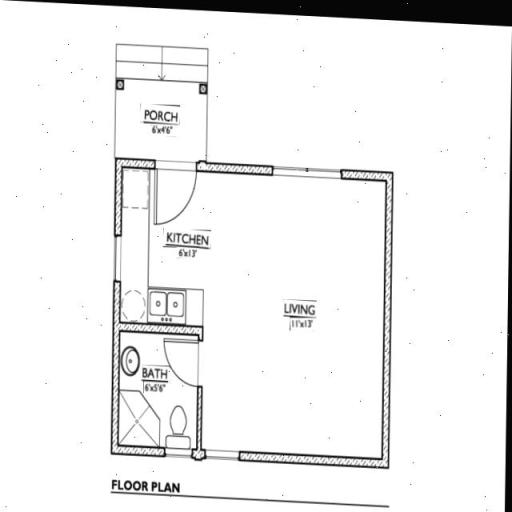bathroom: (120, 340, 210, 443)
hall: (226, 170, 378, 454)
kitchen: (123, 178, 214, 319)
porch: (122, 73, 210, 166)
